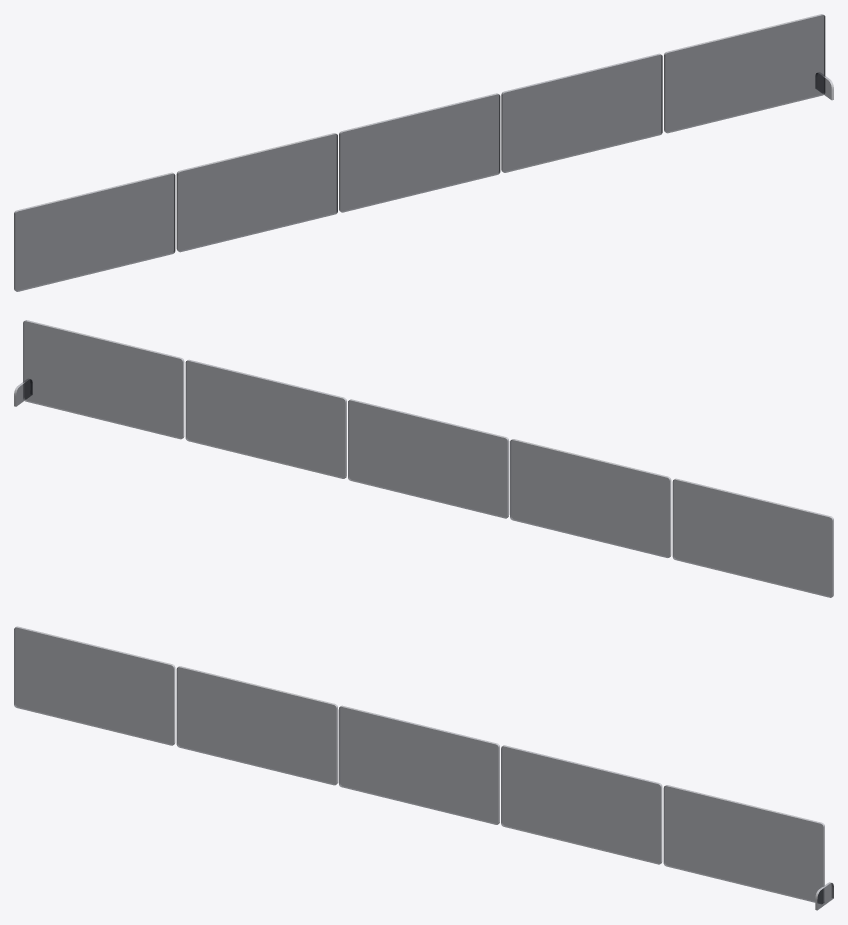
Rendered from ShelfDividerTransparent01.fbx.
3 views of the same model, one above another, from view 1: azimuth 30°, elevation 25°; view 2: azimuth 150°, elevation 25°; view 3: azimuth 330°, elevation 25° (orthographic).
Parts seen in each view (by area): view 1: ShelfDividerTransparent01; view 2: ShelfDividerTransparent01; view 3: ShelfDividerTransparent01.
Part boxes in pixels (x1,y1,x2,y2): ShelfDividerTransparent01: (14,14,833,291); ShelfDividerTransparent01: (14,320,833,597); ShelfDividerTransparent01: (14,626,833,910).
Size of what is drawn, in the model's own units: 52.74 by 1.86 by 5.
Materials: 2 (1 with a texture image).
